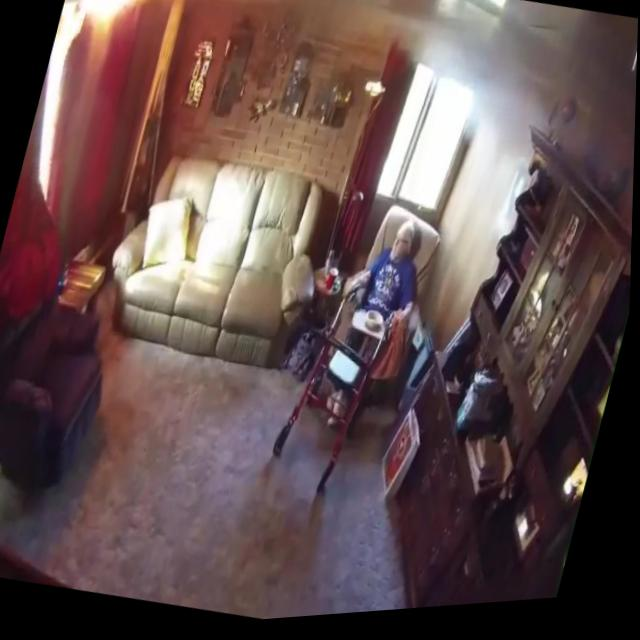fire: (60, 0, 198, 53)
